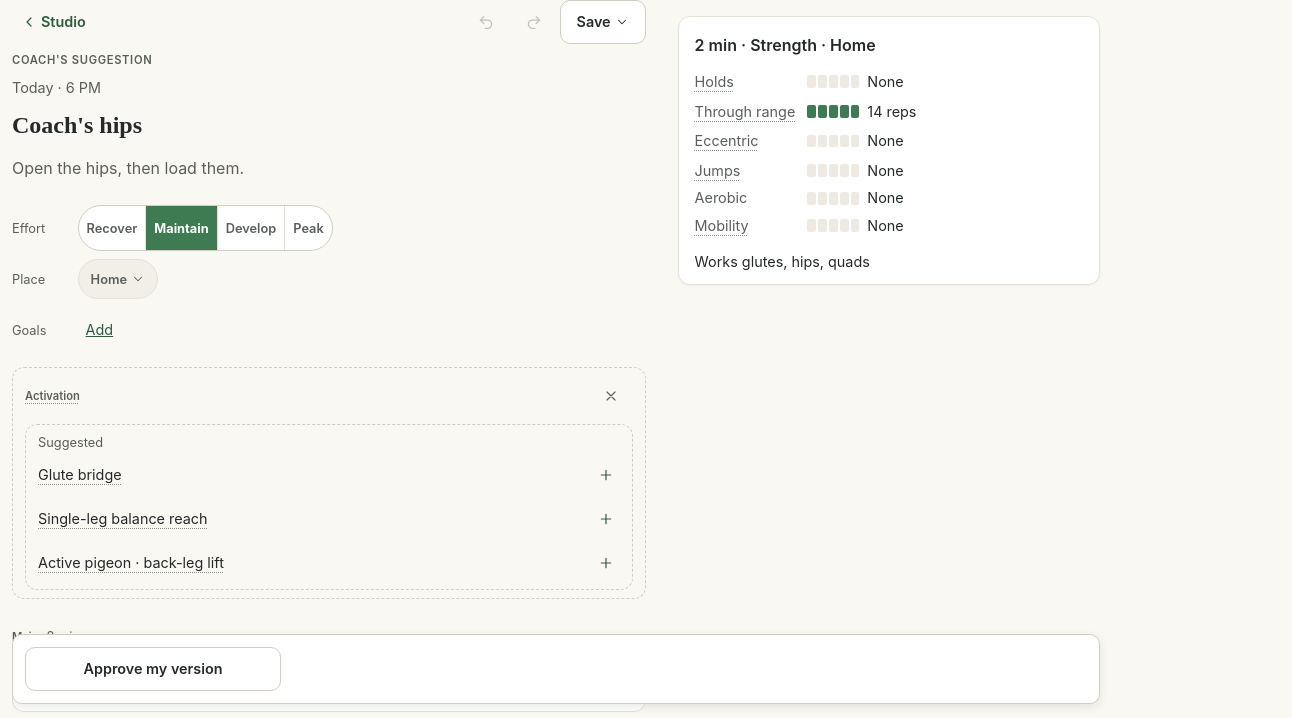
Scenario: Edit before approve › a revision's draft: Save changes approves it, changed or not; a refusal says why in place, and saving again goes on
Click the button "Approve my version".
click(153, 669)  # box [25,647,281,691]
(page scrolled)
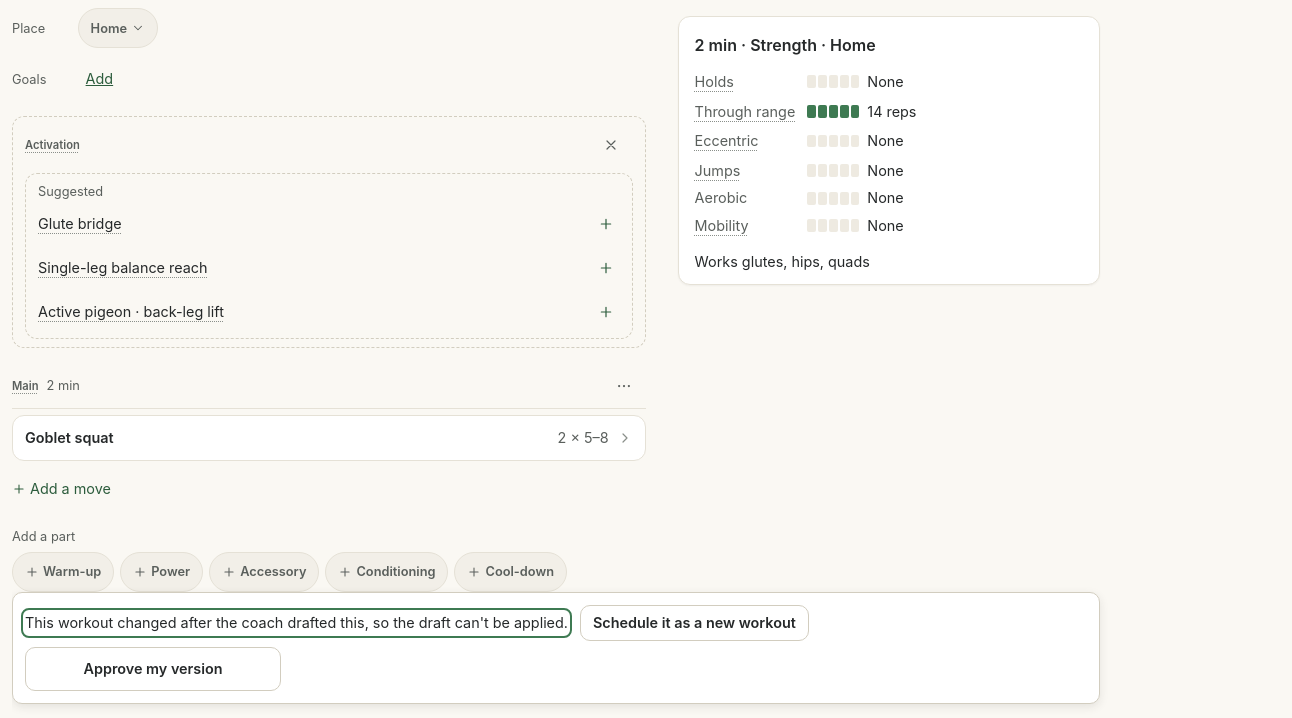
Result: the button "Schedule it as a new workout" is shown at [580,605,809,641]
Click the button "Approve my version".
click(153, 669)  # box [25,647,281,691]
(page scrolled)
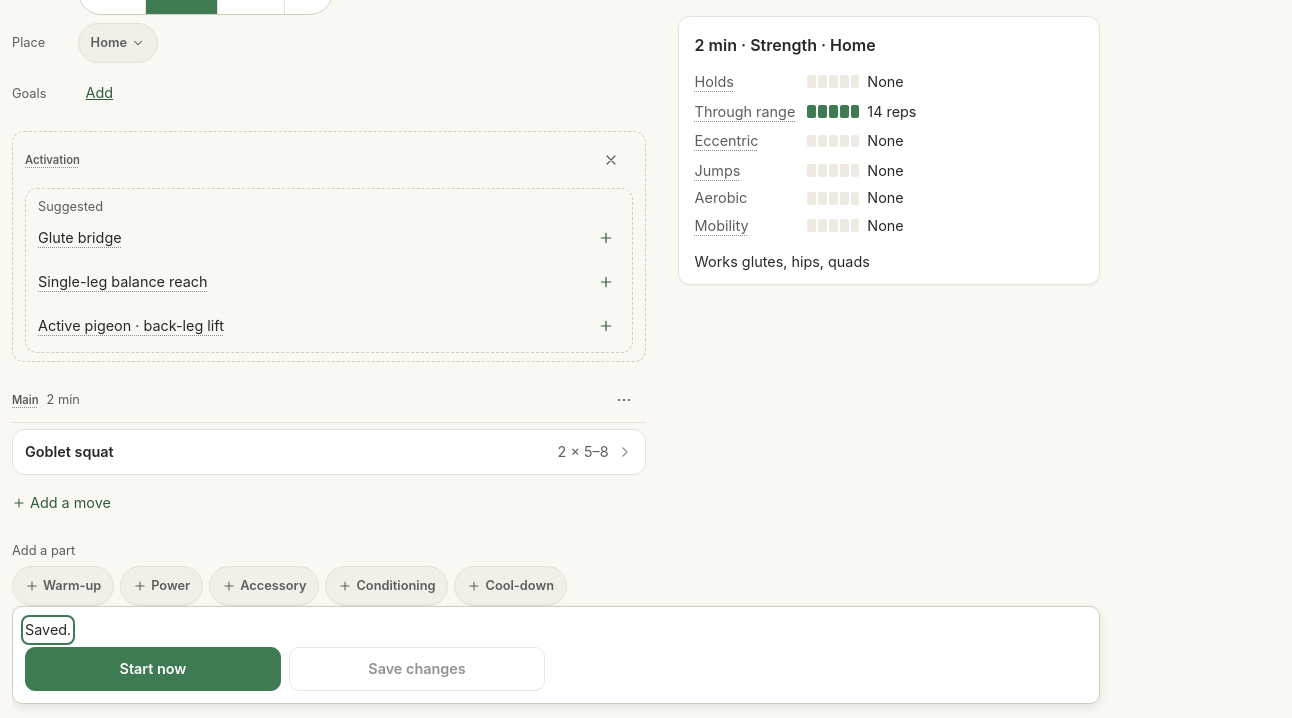
Result: the text "Saved." is shown at [25,619,71,641]
